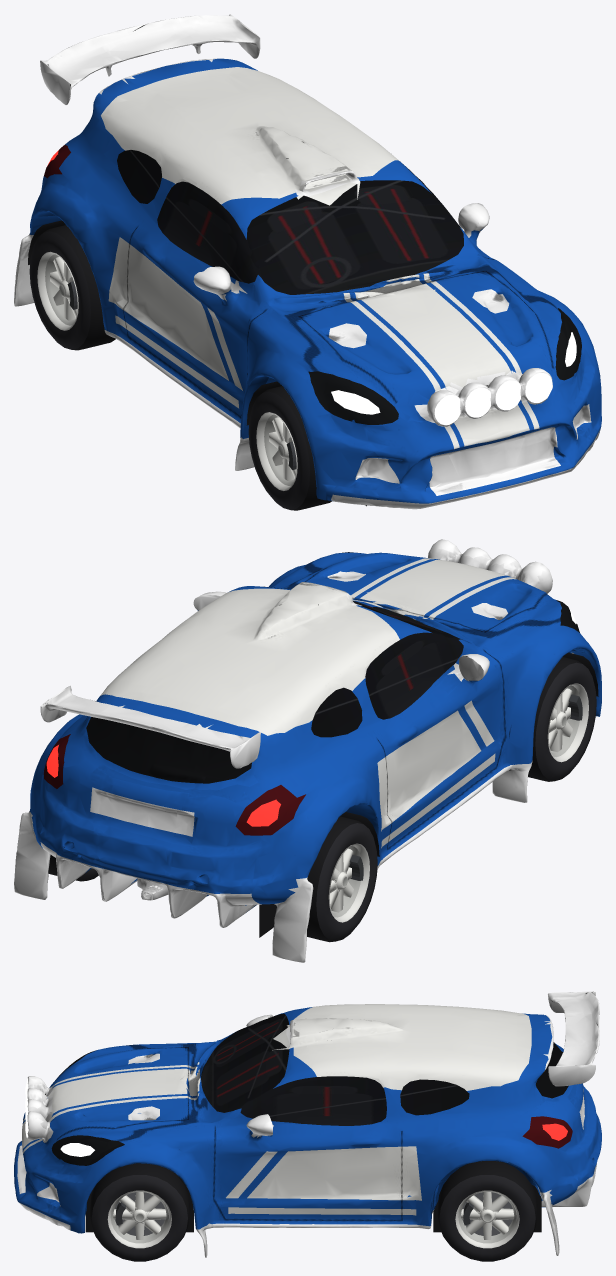
File: rally.glb
3 renders of one model, top to bottom at view 1: azimuth 30°, elevation 25°; view 2: azimuth 150°, elevation 25°; view 3: azimuth 270°, elevation 25°, orthographic. The views are drawn at different scales.
Visible parts, largest first — view 1: body, wheel_RR, wheel_FR; view 2: body, wheel_RR, wheel_FR; view 3: body, wheel_RL, wheel_FL.
Boxes of the visible parts, x1,y1,x2,y2 form: body: [14, 14, 601, 509]; wheel_RR: [29, 225, 115, 350]; wheel_FR: [248, 386, 331, 510]; body: [14, 539, 601, 962]; wheel_RR: [307, 816, 377, 942]; wheel_FR: [528, 657, 596, 781]; body: [14, 991, 601, 1257]; wheel_RL: [437, 1161, 537, 1261]; wheel_FL: [90, 1163, 189, 1261].
Size of the model in its own units: 1.91 by 1.44 by 4.13.
Materials: 14 (4 with a texture image).
